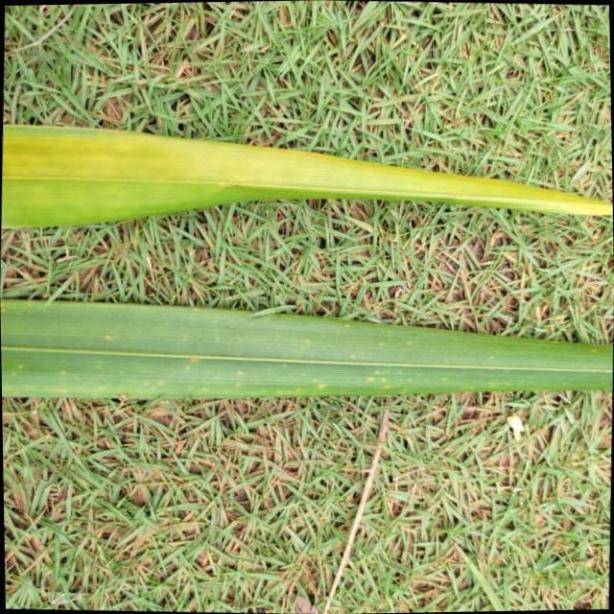nitrogen: (0, 125, 614, 235), (0, 291, 614, 401)
